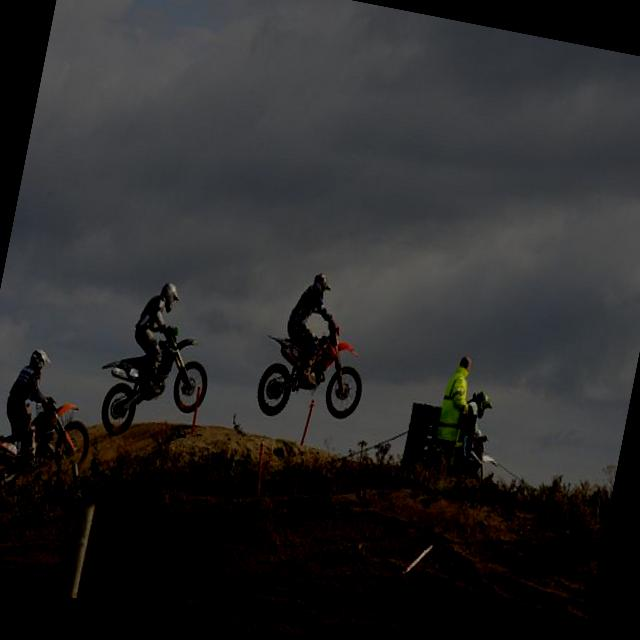Vehicle: (89, 314, 217, 450), (255, 306, 374, 430), (0, 393, 97, 508), (466, 432, 504, 482)
